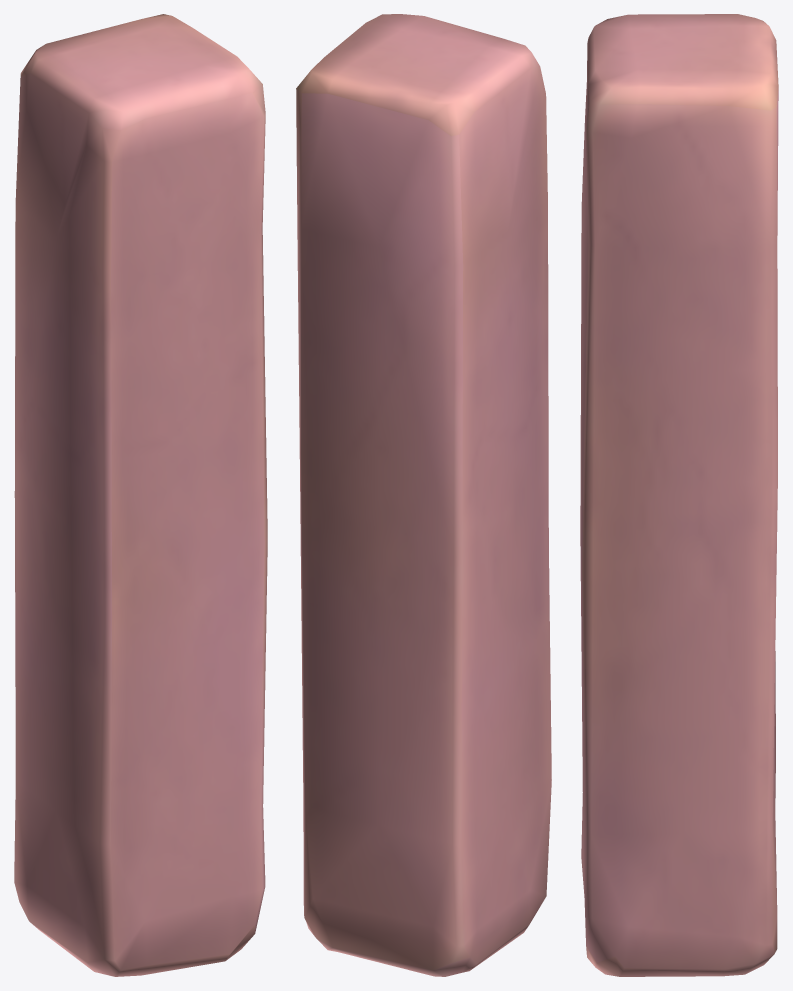
Rendered from stone_pillar.gltf.
3 views of the same model, side by side, from view 1: azimuth 30°, elevation 25°; view 2: azimuth 150°, elevation 25°; view 3: azimuth 270°, elevation 25° (orthographic).
Visible parts, largest first — view 1: Mesh_Texture_0; view 2: Mesh_Texture_0; view 3: Mesh_Texture_0.
Boxes of the visible parts, left/top/right/bottom form: Mesh_Texture_0: left=14, top=14, right=267, bottom=976; Mesh_Texture_0: left=296, top=14, right=551, bottom=976; Mesh_Texture_0: left=580, top=14, right=778, bottom=976.
Size of the model in its own units: 2 by 10 by 2.
Materials: 1 (1 with a texture image).
